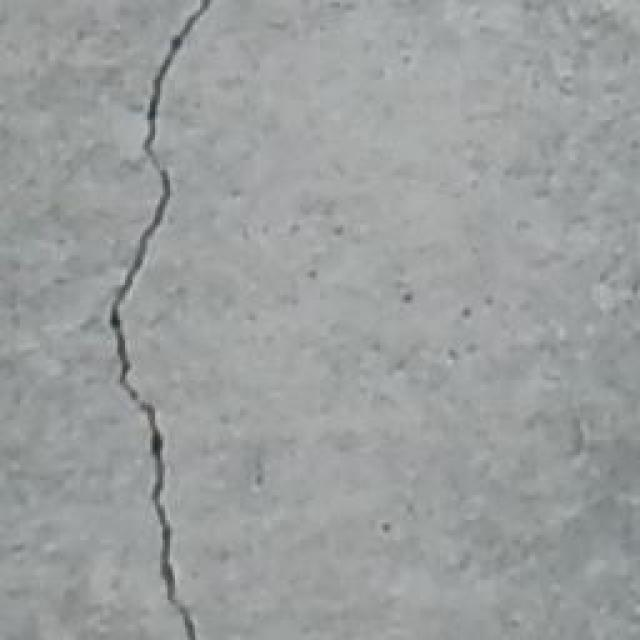concrete-crack: (107, 0, 211, 640)
